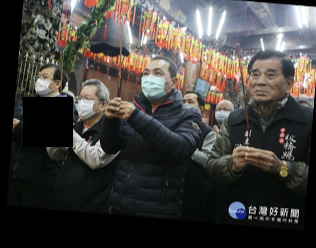with_mask: (141, 65, 174, 100), (76, 92, 102, 119), (34, 72, 58, 97), (214, 104, 232, 123)
without_mask: (248, 66, 290, 104)
